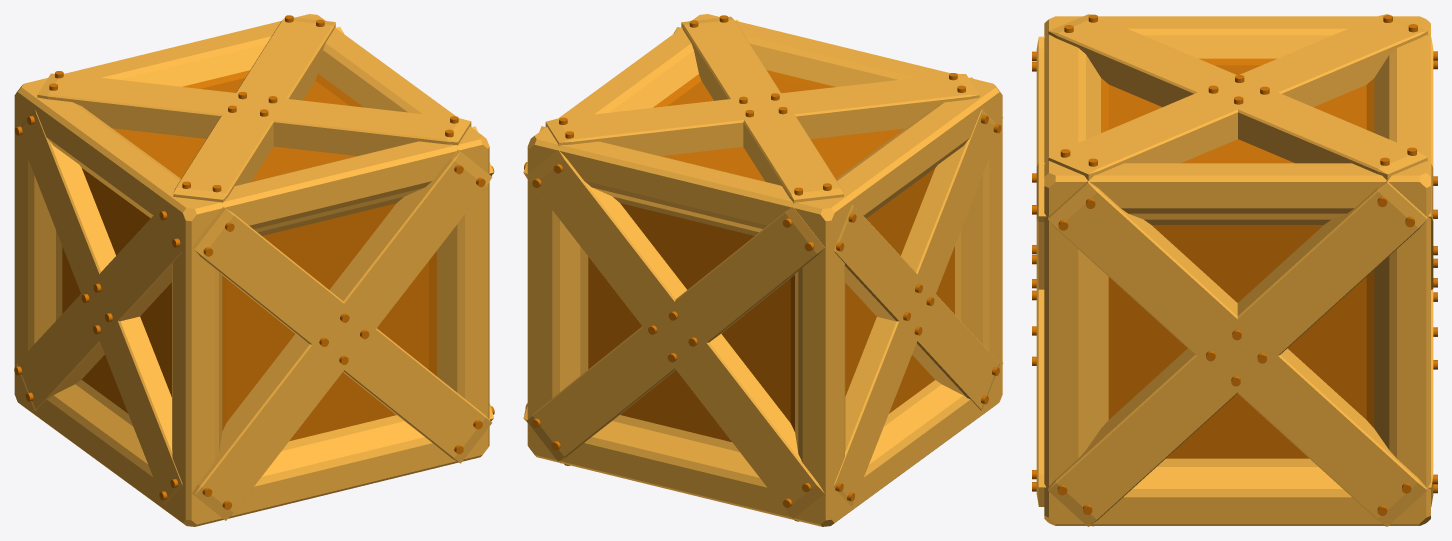
The picture shows the model from 3 angles, left to right: view 1: azimuth 30°, elevation 25°; view 2: azimuth 150°, elevation 25°; view 3: azimuth 270°, elevation 25°; orthographic projection. The views are drawn at different scales.
Parts seen in each view (by area): view 1: 立方体.004, 立方体.008, 立方体.009, 立方体.007; view 2: 立方体.004, 立方体.005, 立方体.009, 立方体.007; view 3: 立方体.004, 立方体.006, 立方体.009, 立方体.008, 立方体.005.
Boxes of the visible parts, x1,y1,x2,y2 form: 立方体.004: (14,14,489,526); 立方体.008: (192,149,492,520); 立方体.009: (37,15,471,202); 立方体.007: (14,109,183,505); 立方体.004: (527,14,1002,526); 立方体.005: (527,149,824,518); 立方体.009: (545,15,979,203); 立方体.007: (833,109,1001,506); 立方体.004: (1044,16,1430,525); 立方体.006: (1048,180,1427,526); 立方体.009: (1048,14,1427,180); 立方体.008: (1032,36,1046,506); 立方体.005: (1428,37,1437,506).
Size of the model in its own units: 209 by 208 by 210.
